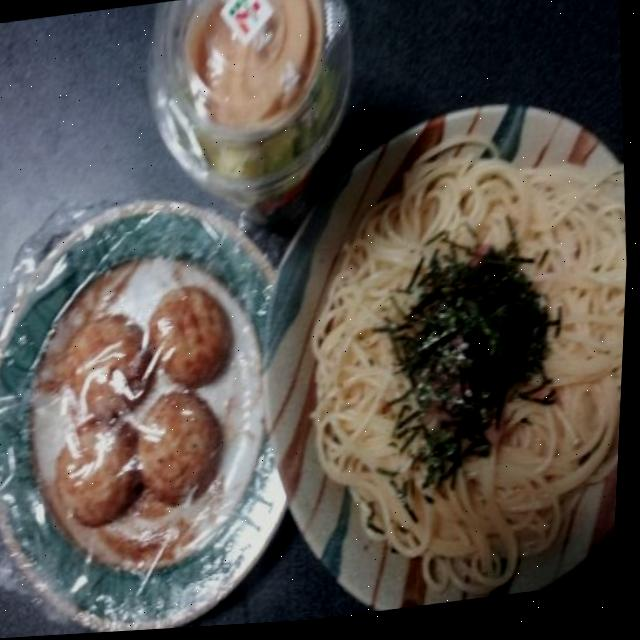炸货点心: (0, 183, 305, 640)
